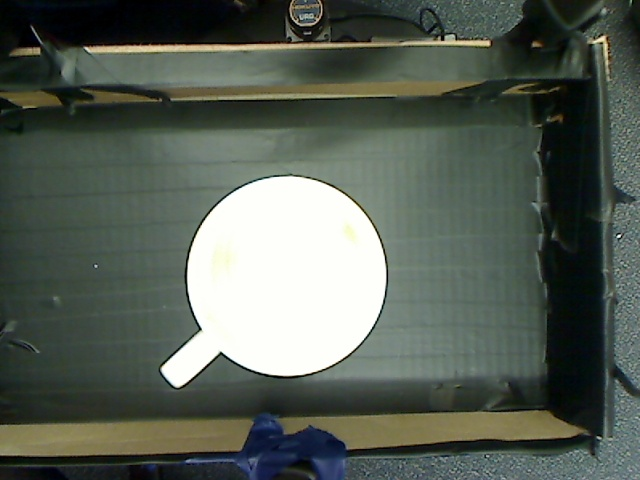mug: (144, 164, 411, 408)
